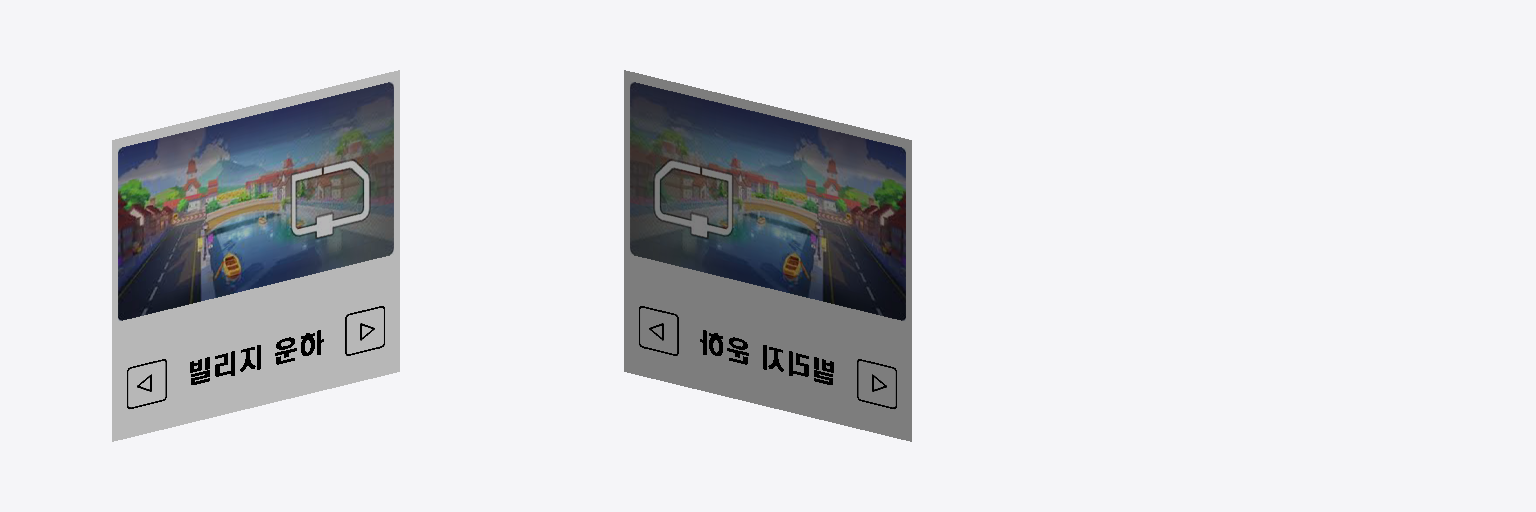
3 views of the same model, side by side, from view 1: azimuth 30°, elevation 25°; view 2: azimuth 150°, elevation 25°; view 3: azimuth 270°, elevation 25° (orthographic).
Parts seen in each view (by area): view 1: Plane001; view 2: Plane001; view 3: none.
Boxes of the visible parts, x1,y1,x2,y2 form: Plane001: [112, 70, 399, 441]; Plane001: [624, 70, 911, 441].
Bounding box in the file's own units: 2 × 2 × 0.
Materials: 1 (1 with a texture image).